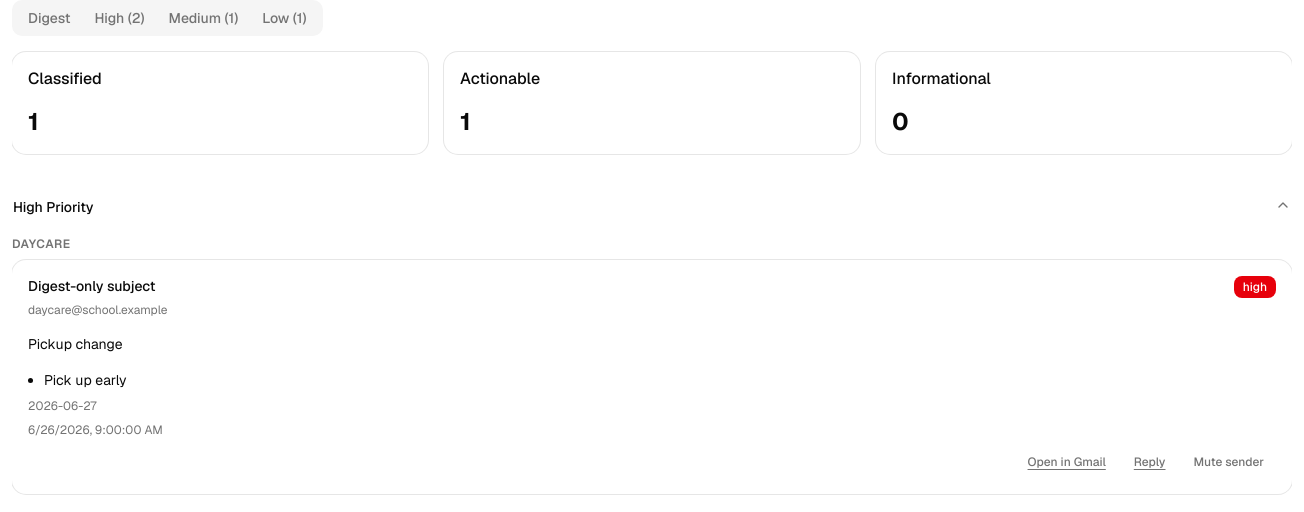
DashboardTabs › shows a priority's classifications when its tab is selected
This screenshot has width=1304, height=512.
Click the tab "High (2)". click: (120, 18)
box: [82, 4, 157, 32]
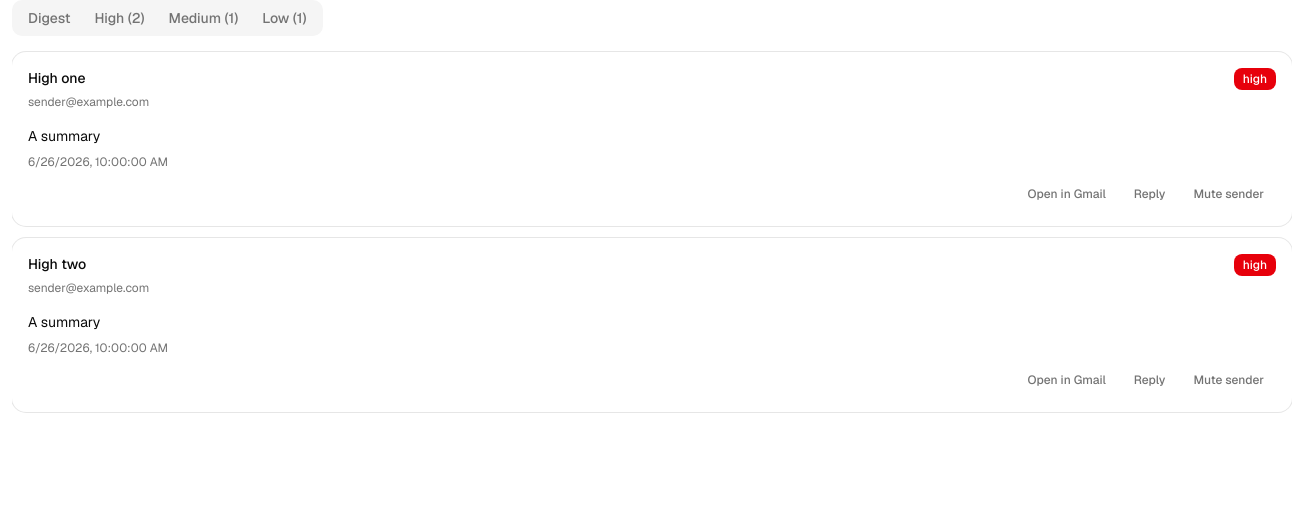
Now the text "High one" is shown, box [28, 68, 86, 88]
Now the text "High two" is shown, box [28, 254, 86, 274]
